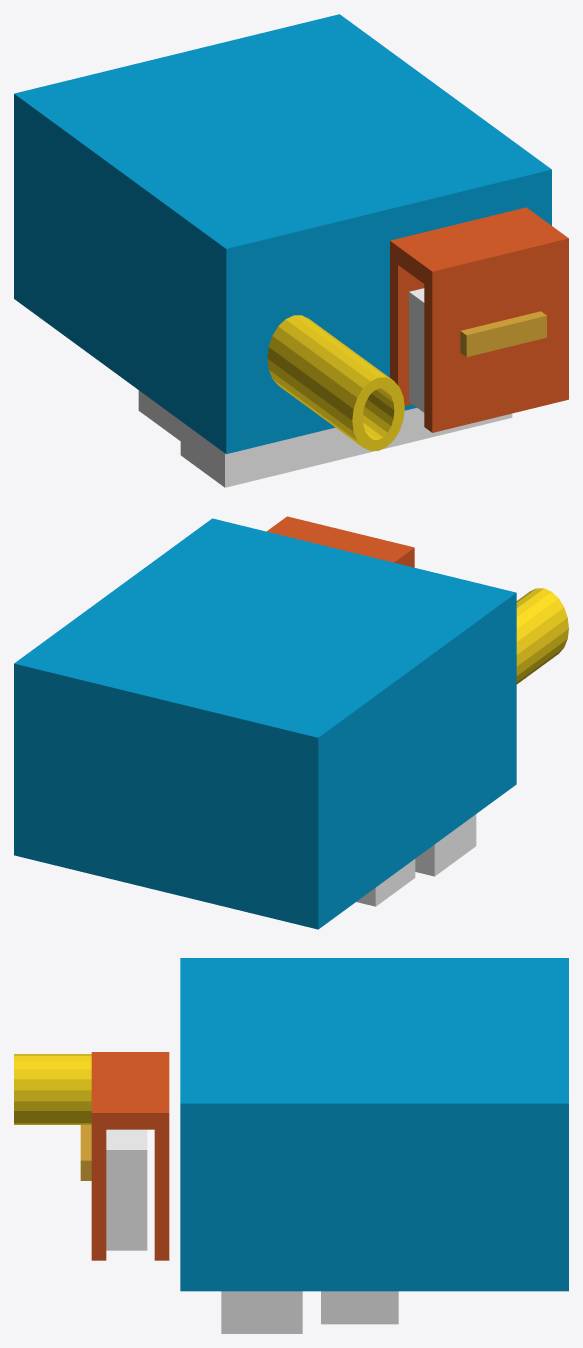
Rendered from tinker.obj.
3 views of the same model, one above another, from view 1: azimuth 30°, elevation 25°; view 2: azimuth 150°, elevation 25°; view 3: azimuth 270°, elevation 25° (orthographic). The views are drawn at different scales.
Visible parts, largest first — view 1: group_0_40919, group_0_14900002, group_0_16768282, group_0_16448250, group_0_14789940, group_0_16777215; view 2: group_0_40919, group_0_16768282, group_0_14900002, group_0_16448250; view 3: group_0_40919, group_0_14900002, group_0_16448250, group_0_16768282, group_0_16777215, group_0_14789940.
Boxes of the visible parts, x1,y1,x2,y2 form: group_0_40919: [14, 14, 551, 454]; group_0_14900002: [390, 207, 568, 432]; group_0_16768282: [267, 315, 404, 450]; group_0_16448250: [138, 390, 512, 487]; group_0_14789940: [460, 311, 546, 357]; group_0_16777215: [409, 288, 424, 412]; group_0_40919: [14, 518, 516, 929]; group_0_16768282: [516, 588, 568, 684]; group_0_14900002: [266, 516, 414, 567]; group_0_16448250: [356, 814, 476, 906]; group_0_40919: [180, 958, 568, 1291]; group_0_14900002: [91, 1052, 169, 1260]; group_0_16448250: [221, 1291, 398, 1333]; group_0_16768282: [14, 1054, 91, 1124]; group_0_16777215: [106, 1129, 147, 1250]; group_0_14789940: [80, 1125, 91, 1180].
Bounding box in the file's own units: 93 × 74 × 150.
